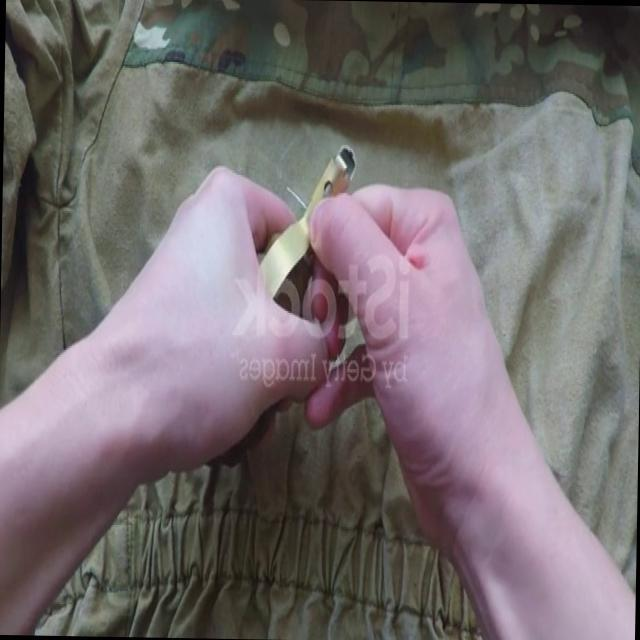grenade: (222, 146, 355, 458)
